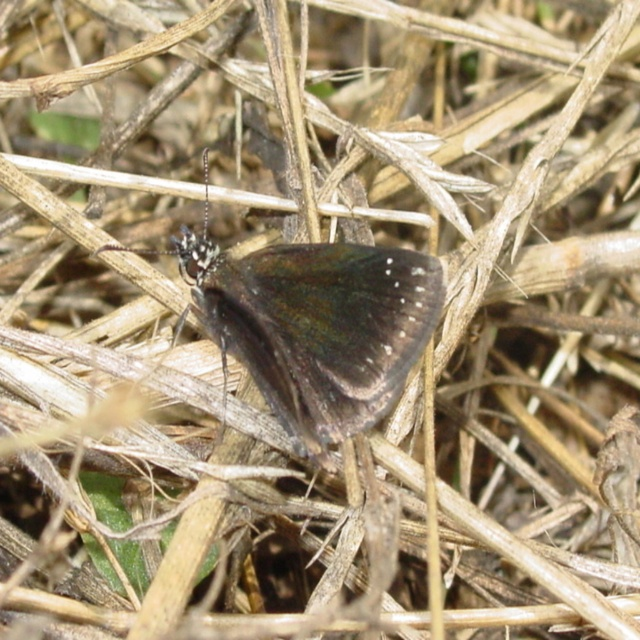Butterfly: (92, 150, 445, 464)
